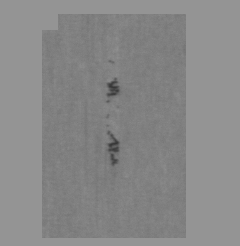oxl: (35, 10, 205, 236)
